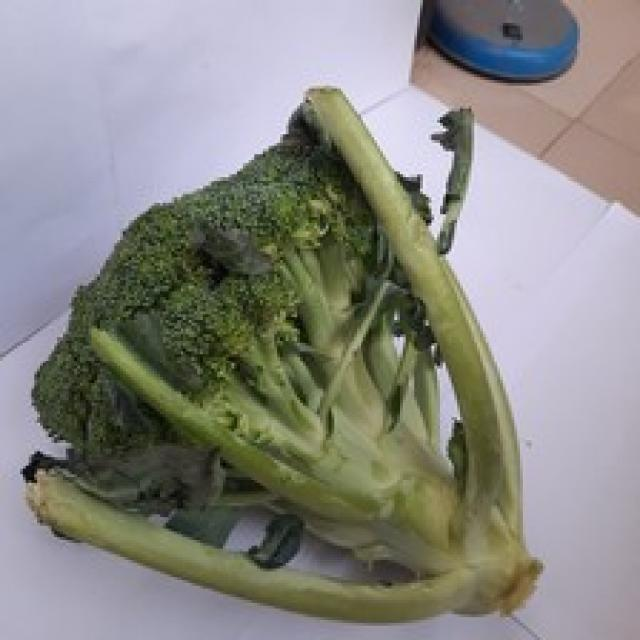Broccoli: (23, 87, 541, 621)
